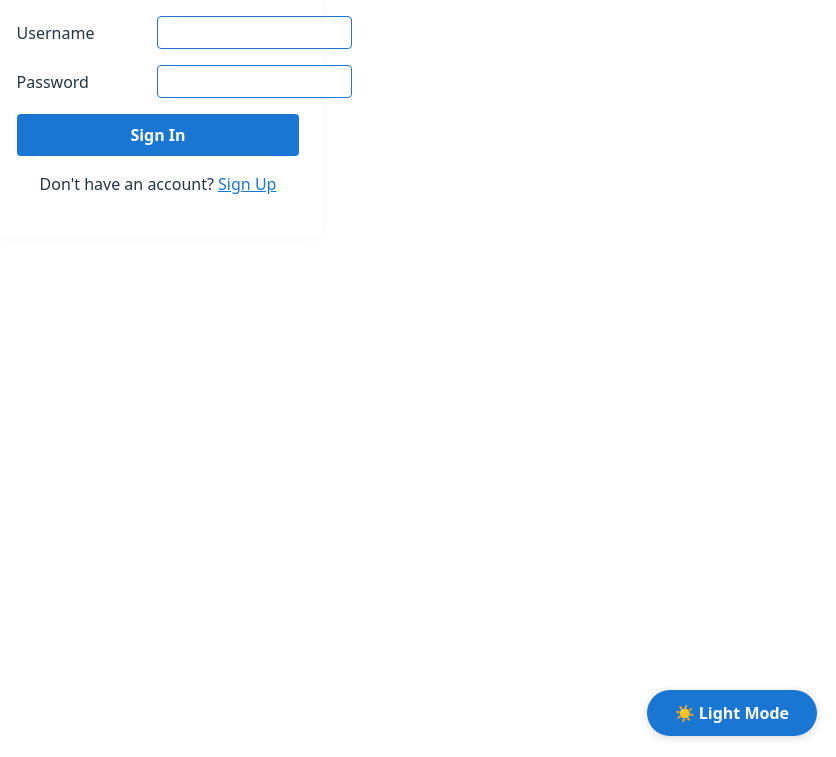
Test case: SignInForm › if login fail, will show error
Type "baduser" into the field labelled "Username". click: (254, 32)
box: 157,16 -> 352,49
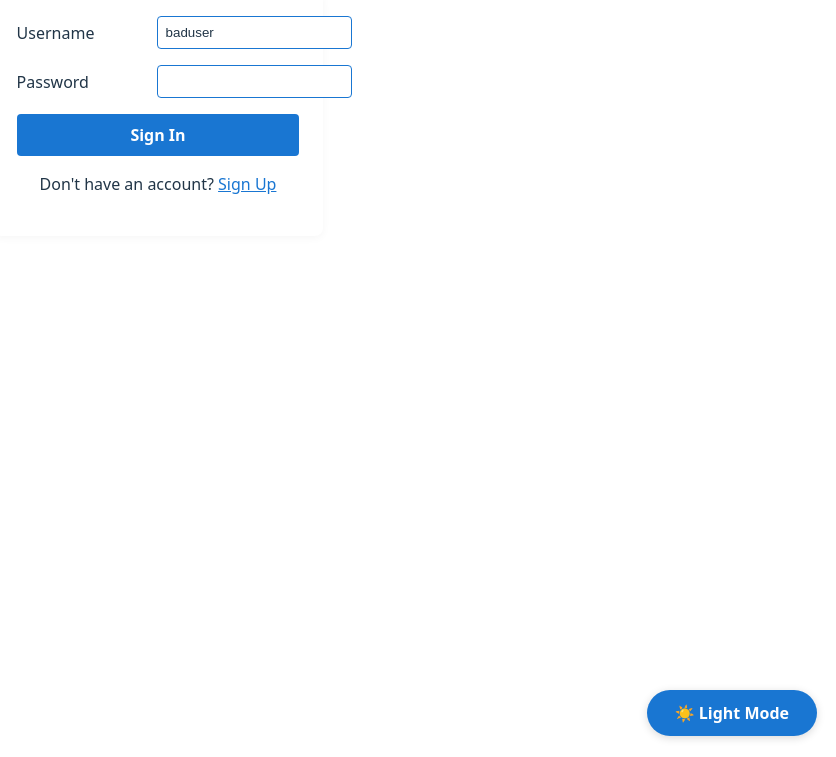
Type "badpass" into the password field labelled "Password". click: (254, 82)
box: 157,65 -> 352,98
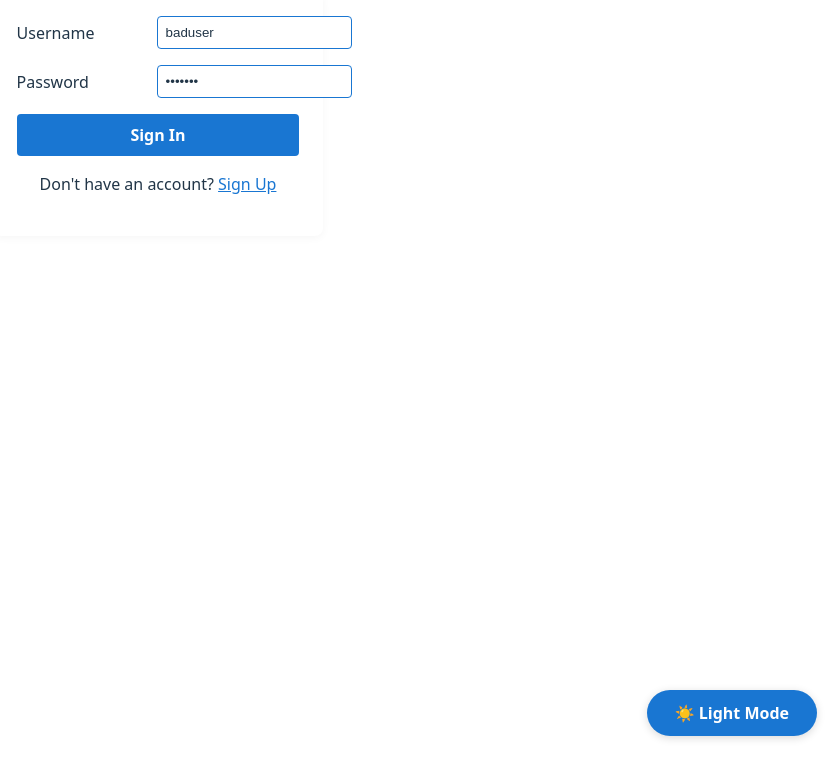
Click the button "Sign In". click: (158, 135)
box: 17,114 -> 299,156
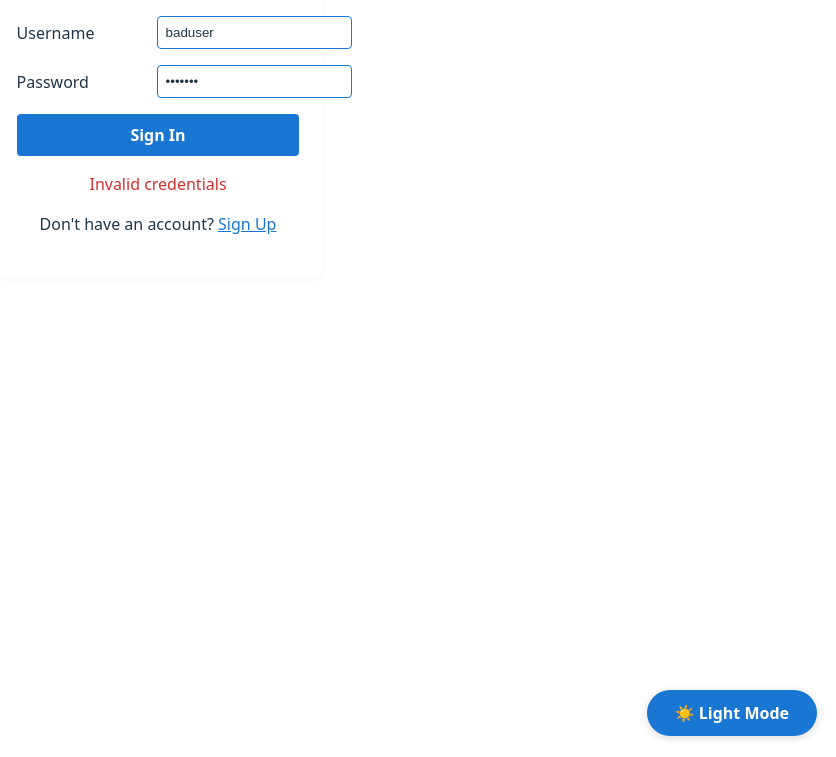
Expected: the text "Invalid credentials" is shown, 90,173 -> 227,195
